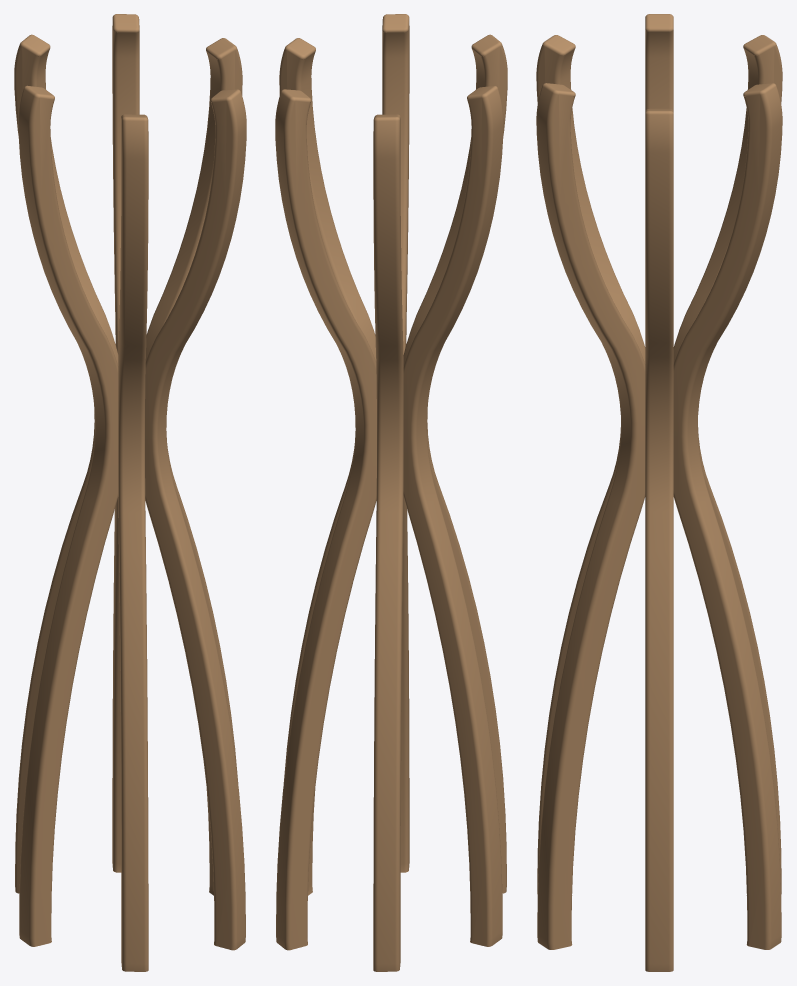
The model's file is cabideiro-monastrell.glb.
The picture shows the model from 3 angles, left to right: view 1: azimuth 30°, elevation 25°; view 2: azimuth 150°, elevation 25°; view 3: azimuth 270°, elevation 25°; orthographic projection.
Parts seen in each view (by area): view 1: Componente#3 (×6); view 2: Componente#3 (×6); view 3: Componente#3 (×6).
Part boxes in pixels (<box>): Componente#3 (×6): <box>14,14,246,971</box>; Componente#3 (×6): <box>275,14,507,971</box>; Componente#3 (×6): <box>536,14,782,971</box>.
Bounding box in the file's own units: 0.4123 × 1.57 × 0.4085.
